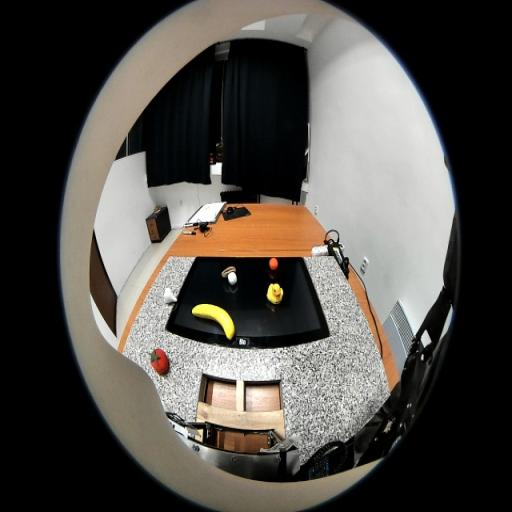Banana: (192, 304, 235, 340)
Duck: (266, 282, 284, 304)
Mushroom: (222, 265, 237, 285)
Onion: (163, 288, 178, 303)
Orange: (268, 258, 278, 270)
Tomato: (149, 348, 169, 374)
